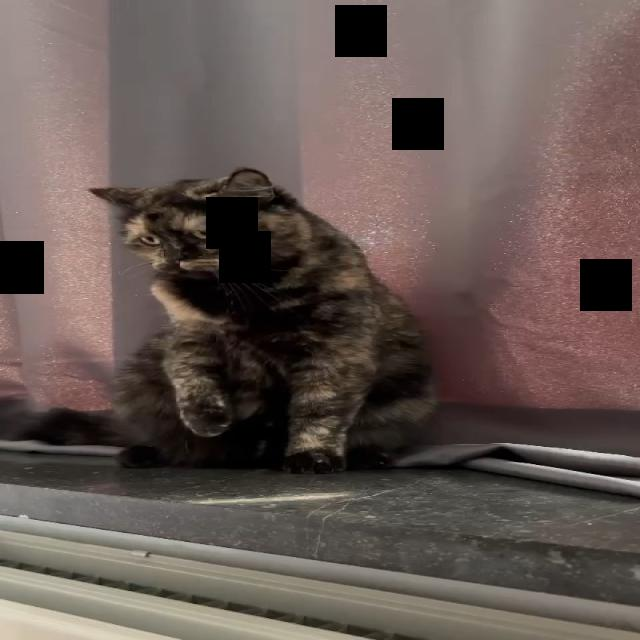authorized: (85, 166, 439, 475)
